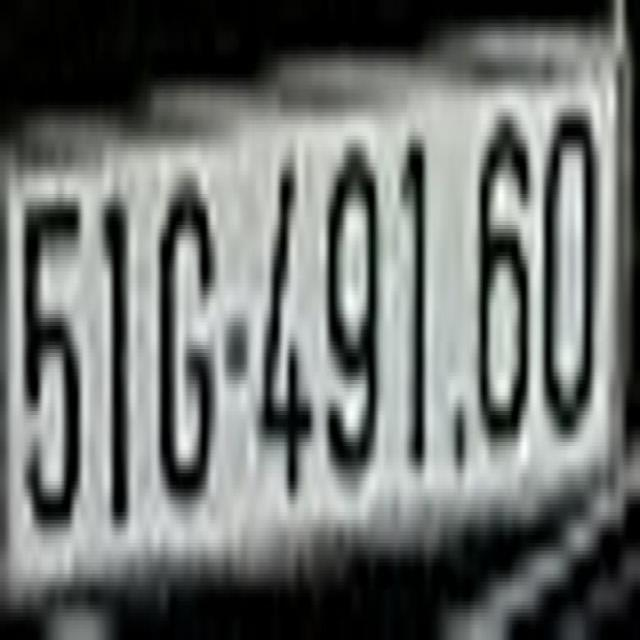0: (542, 73, 596, 434)
1: (100, 170, 136, 528), (399, 132, 435, 466)
4: (262, 163, 312, 512)
5: (23, 186, 82, 539)
6: (472, 89, 534, 446)
9: (322, 128, 384, 485)
G: (152, 148, 217, 500)
